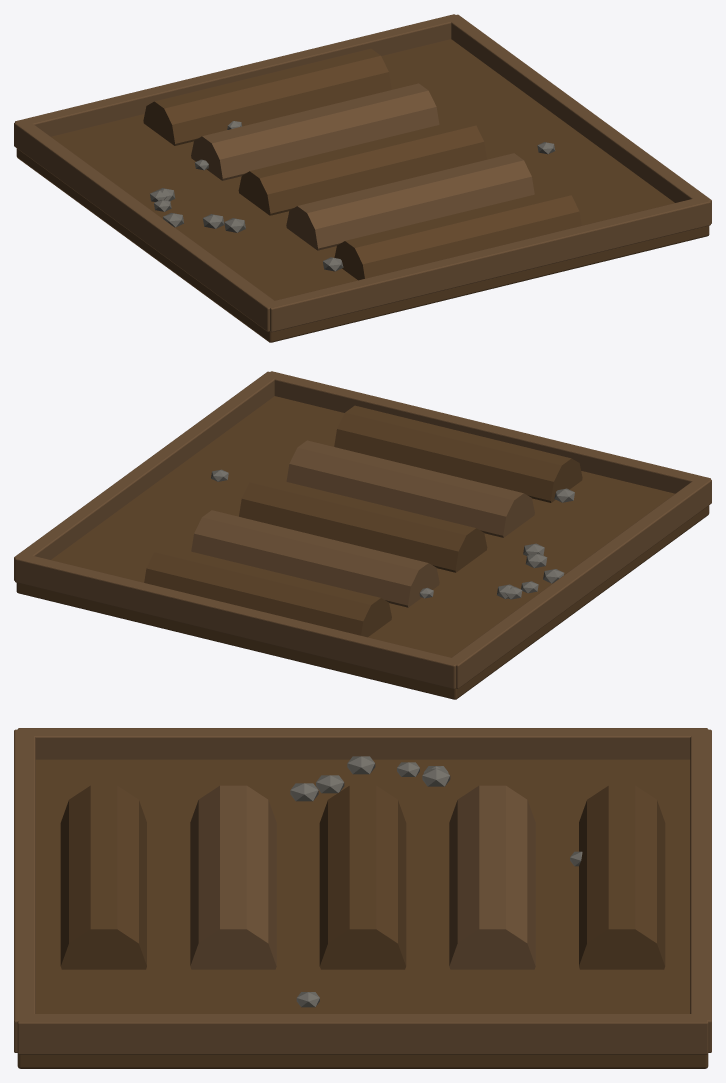
The model's file is tarla.glb.
3 views of the same model, one above another, from view 1: azimuth 30°, elevation 25°; view 2: azimuth 150°, elevation 25°; view 3: azimuth 270°, elevation 25° (orthographic). The views are drawn at different scales.
Parts seen in each view (by area): view 1: Cylinder; view 2: Cylinder; view 3: Cylinder.
Part boxes in pixels (x1,y1,x2,y2): Cylinder: [14, 14, 711, 342]; Cylinder: [14, 371, 711, 699]; Cylinder: [14, 728, 711, 1068].
Bounding box in the file's own units: 1 × 0.1177 × 1.
